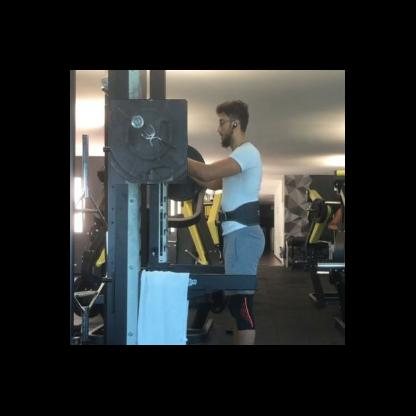barbell: (111, 100, 188, 185)
